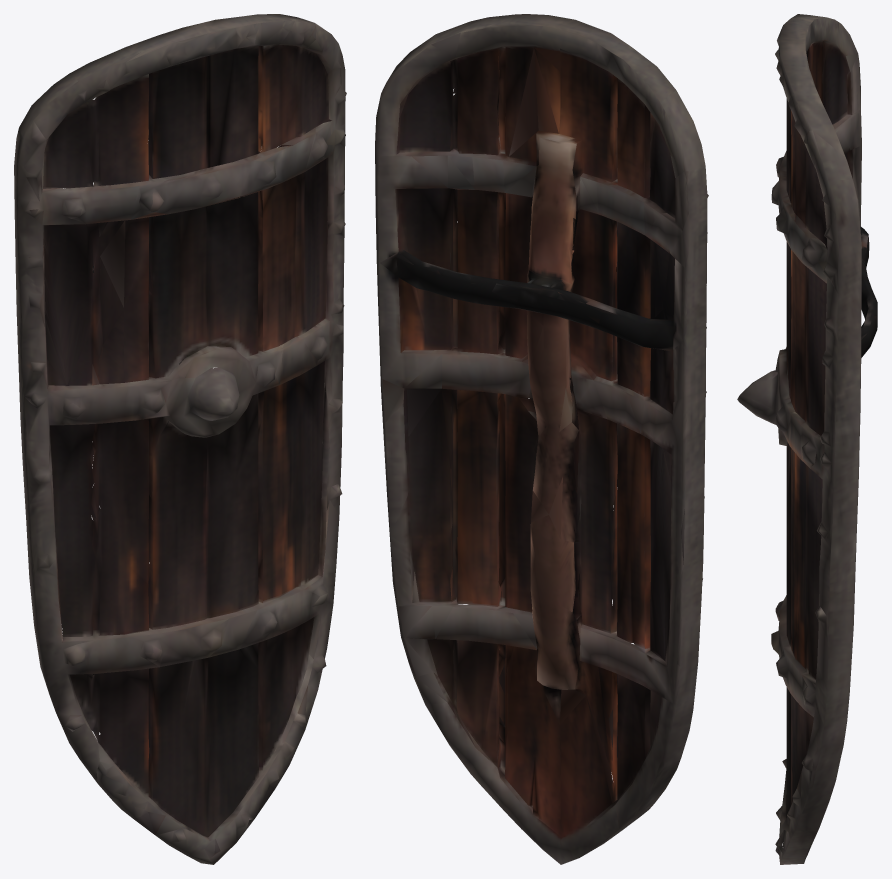
File: tower-shield-10k-v3.glb
The picture shows the model from 3 angles, left to right: view 1: azimuth 30°, elevation 25°; view 2: azimuth 150°, elevation 25°; view 3: azimuth 270°, elevation 25°; orthographic projection.
Parts seen in each view (by area): view 1: ashwall-tower-shield-10k-v1; view 2: ashwall-tower-shield-10k-v1; view 3: ashwall-tower-shield-10k-v1.
Boxes of the visible parts, x1=… form: ashwall-tower-shield-10k-v1: x1=14, y1=14, x2=346, y2=864; ashwall-tower-shield-10k-v1: x1=375, y1=14, x2=708, y2=864; ashwall-tower-shield-10k-v1: x1=737, y1=14, x2=877, y2=864.
Size of the model in its own units: 0.4125 by 1 by 0.1554.
1 material, 1 textured.
